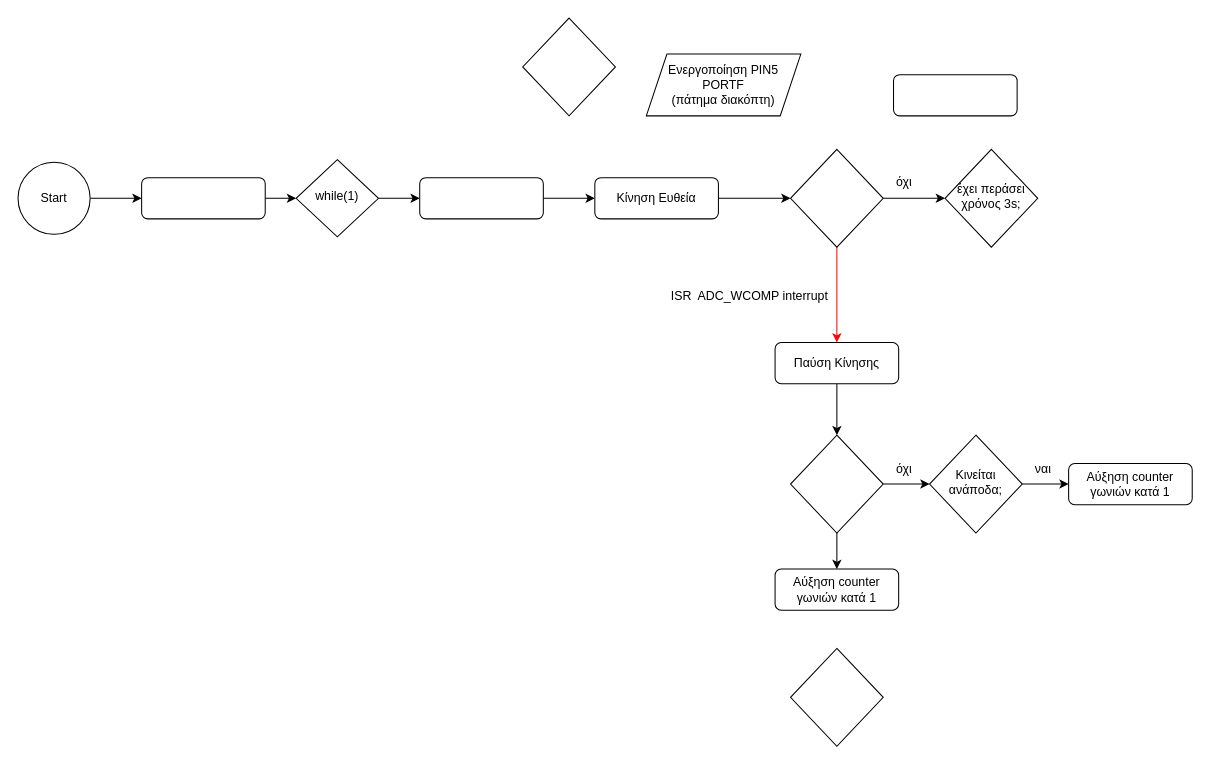
This 1210x764 diagram has some shape labels left out. Each missing label, with the box of its shape:
FreeRunningMode ADC: (419, 177, 543, 219)
RES < 10;: (789, 148, 883, 247)
Αρχικοποίηση των LEDs, PIN5 του PortF και ADC: (141, 177, 265, 219)
Κινείται ευθεία;: (789, 434, 883, 533)
